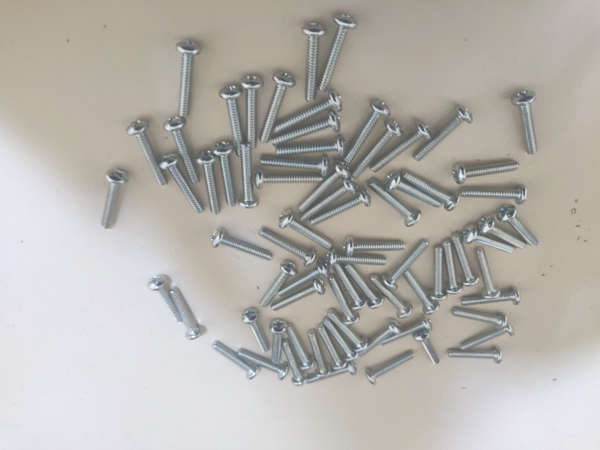longscrew: (417, 108, 472, 162), (345, 95, 388, 164), (270, 104, 340, 145), (273, 95, 342, 136), (322, 12, 356, 94), (354, 123, 402, 179), (373, 127, 430, 174), (293, 163, 349, 209), (161, 155, 206, 212), (258, 74, 295, 143), (371, 183, 426, 227), (302, 179, 358, 220), (130, 120, 165, 185), (403, 171, 461, 210), (259, 228, 316, 267), (213, 229, 270, 268), (165, 115, 197, 184), (302, 19, 328, 103), (311, 195, 373, 227), (177, 31, 198, 124), (280, 261, 330, 299), (386, 242, 427, 288), (514, 87, 539, 158), (100, 167, 129, 228), (382, 179, 443, 208), (330, 313, 370, 357), (212, 344, 258, 382), (280, 213, 331, 247), (365, 353, 416, 387), (258, 153, 330, 177), (258, 263, 298, 306), (375, 275, 413, 320), (234, 350, 289, 381), (254, 167, 325, 191), (451, 159, 522, 183), (476, 217, 526, 251), (324, 280, 362, 324), (329, 265, 367, 309), (347, 265, 385, 309), (274, 282, 326, 314), (276, 133, 348, 156), (404, 272, 440, 316), (221, 85, 243, 155), (464, 323, 516, 352), (198, 148, 221, 213), (241, 76, 262, 147), (450, 234, 478, 287), (503, 209, 542, 247), (361, 323, 401, 360), (465, 226, 517, 253), (382, 320, 434, 347), (151, 278, 182, 323), (306, 365, 358, 391), (324, 319, 355, 362), (451, 190, 533, 206), (326, 251, 389, 271), (238, 145, 257, 211), (173, 287, 196, 340), (343, 236, 407, 255), (217, 144, 236, 205), (452, 309, 509, 329), (242, 309, 267, 354), (448, 348, 507, 367), (445, 239, 463, 297), (320, 325, 342, 372), (462, 291, 521, 308), (481, 245, 499, 298), (430, 245, 446, 303), (416, 329, 440, 367), (288, 323, 307, 371), (285, 342, 304, 388), (311, 327, 326, 379), (270, 319, 286, 365)
